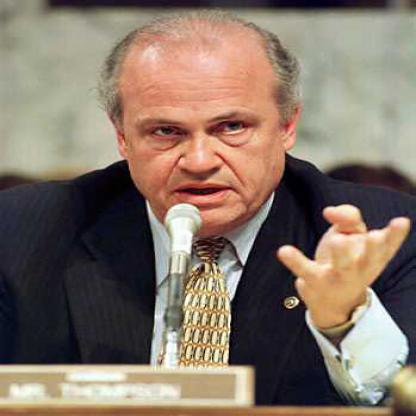face: (121, 22, 288, 227)
